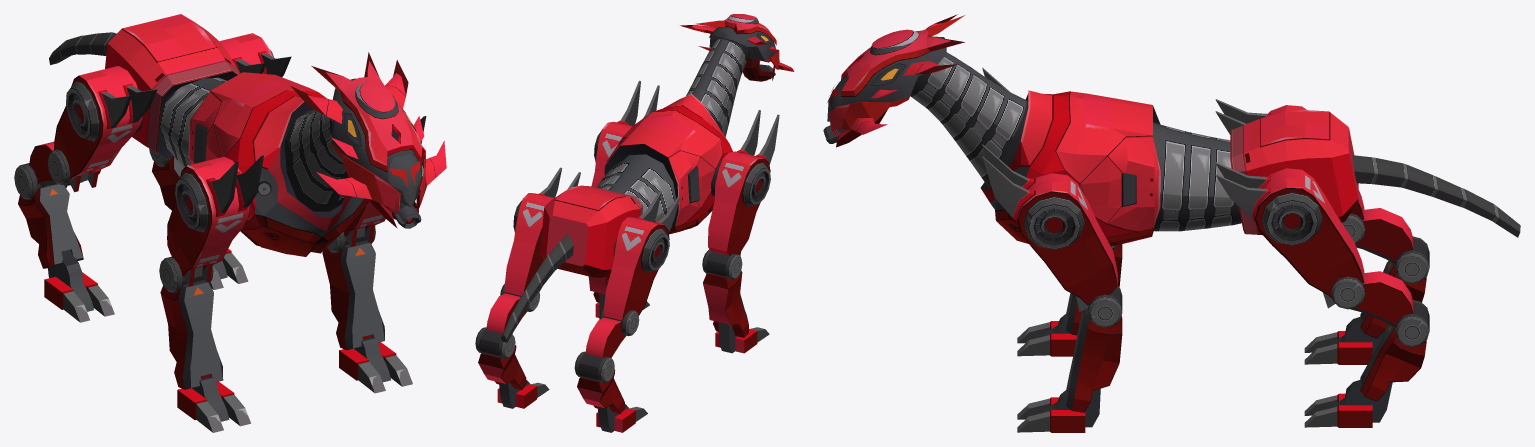
The model's file is jqg.glb.
The picture shows the model from 3 angles, left to right: view 1: azimuth 30°, elevation 25°; view 2: azimuth 150°, elevation 25°; view 3: azimuth 270°, elevation 25°; orthographic projection. The views are drawn at different scales.
Parts seen in each view (by area): view 1: default403; view 2: default403; view 3: default403.
Boxes of the visible parts, left/top/right/bottom form: default403: left=14, top=14, right=446, bottom=432; default403: left=475, top=14, right=794, bottom=432; default403: left=823, top=14, right=1520, bottom=432.
Bounding box in the file's own units: 161 × 264 × 464.
2 materials, 2 textured.
